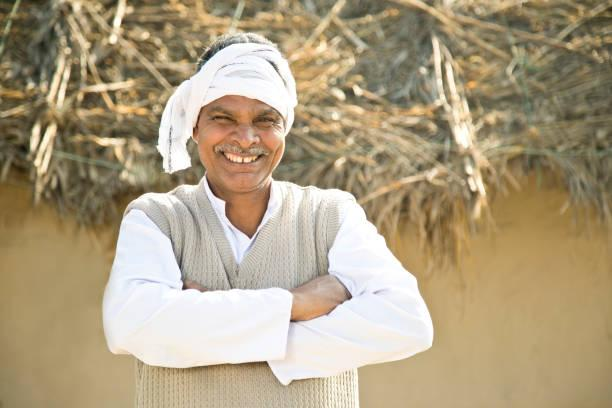Human: (98, 23, 426, 385)
